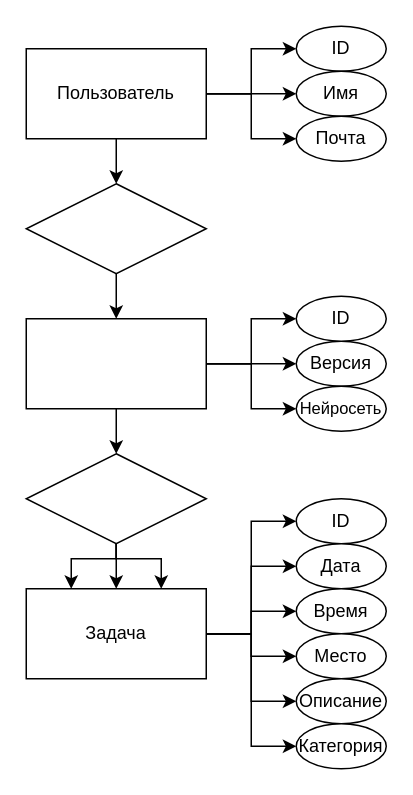
The diagram is 413 pixels wide and 795 high, and some of its shapes have lost their labels. The centre of each missing label's shape, as x and y in pixels:
"Открывает" belongs at point (115, 228).
"Показывает" belongs at point (115, 498).
"Приложение" belongs at point (115, 363).
